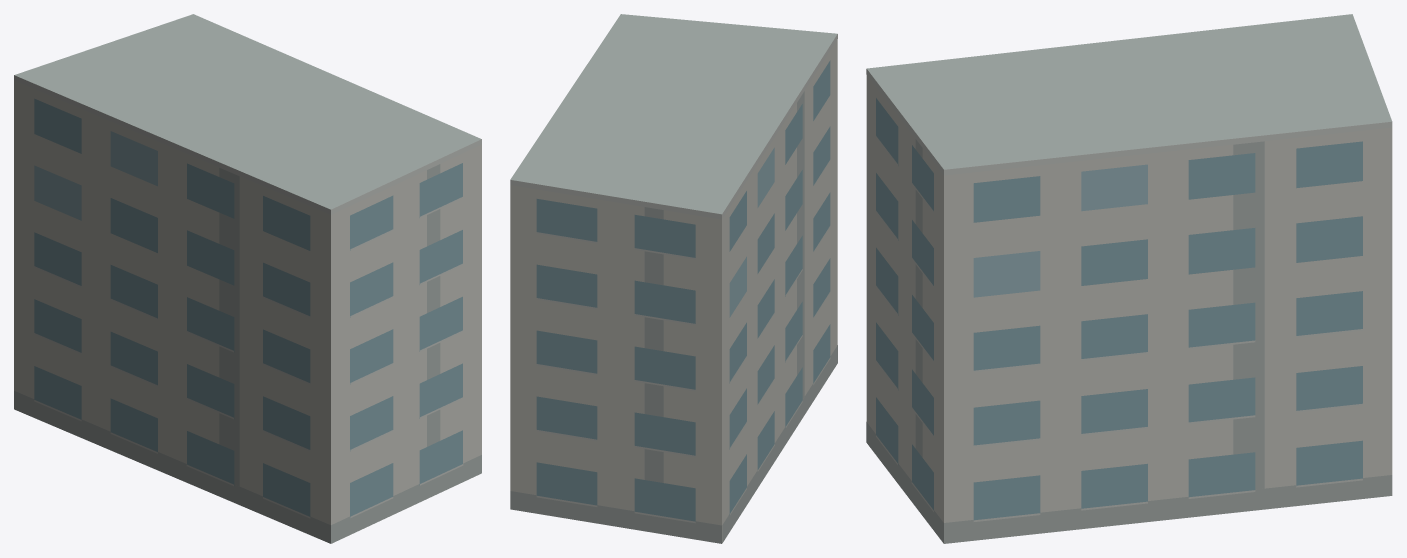
File: residential-14a72507-bc90-4788-b947-7e555fbd2d72.glb
The picture shows the model from 3 angles, left to right: view 1: azimuth 30°, elevation 25°; view 2: azimuth 150°, elevation 25°; view 3: azimuth 270°, elevation 25°; orthographic projection. The views are drawn at different scales.
Visible parts, largest first — view 1: residential-14a72507-bc90-4788-b947-7e555fbd2d72.tmp; view 2: residential-14a72507-bc90-4788-b947-7e555fbd2d72.tmp; view 3: residential-14a72507-bc90-4788-b947-7e555fbd2d72.tmp.
Boxes of the visible parts, <box> form: residential-14a72507-bc90-4788-b947-7e555fbd2d72.tmp: <box>14,14,481,543</box>; residential-14a72507-bc90-4788-b947-7e555fbd2d72.tmp: <box>510,14,837,543</box>; residential-14a72507-bc90-4788-b947-7e555fbd2d72.tmp: <box>866,14,1392,543</box>.
Size of the model in its own units: 13.63 by 15.25 by 19.44.
